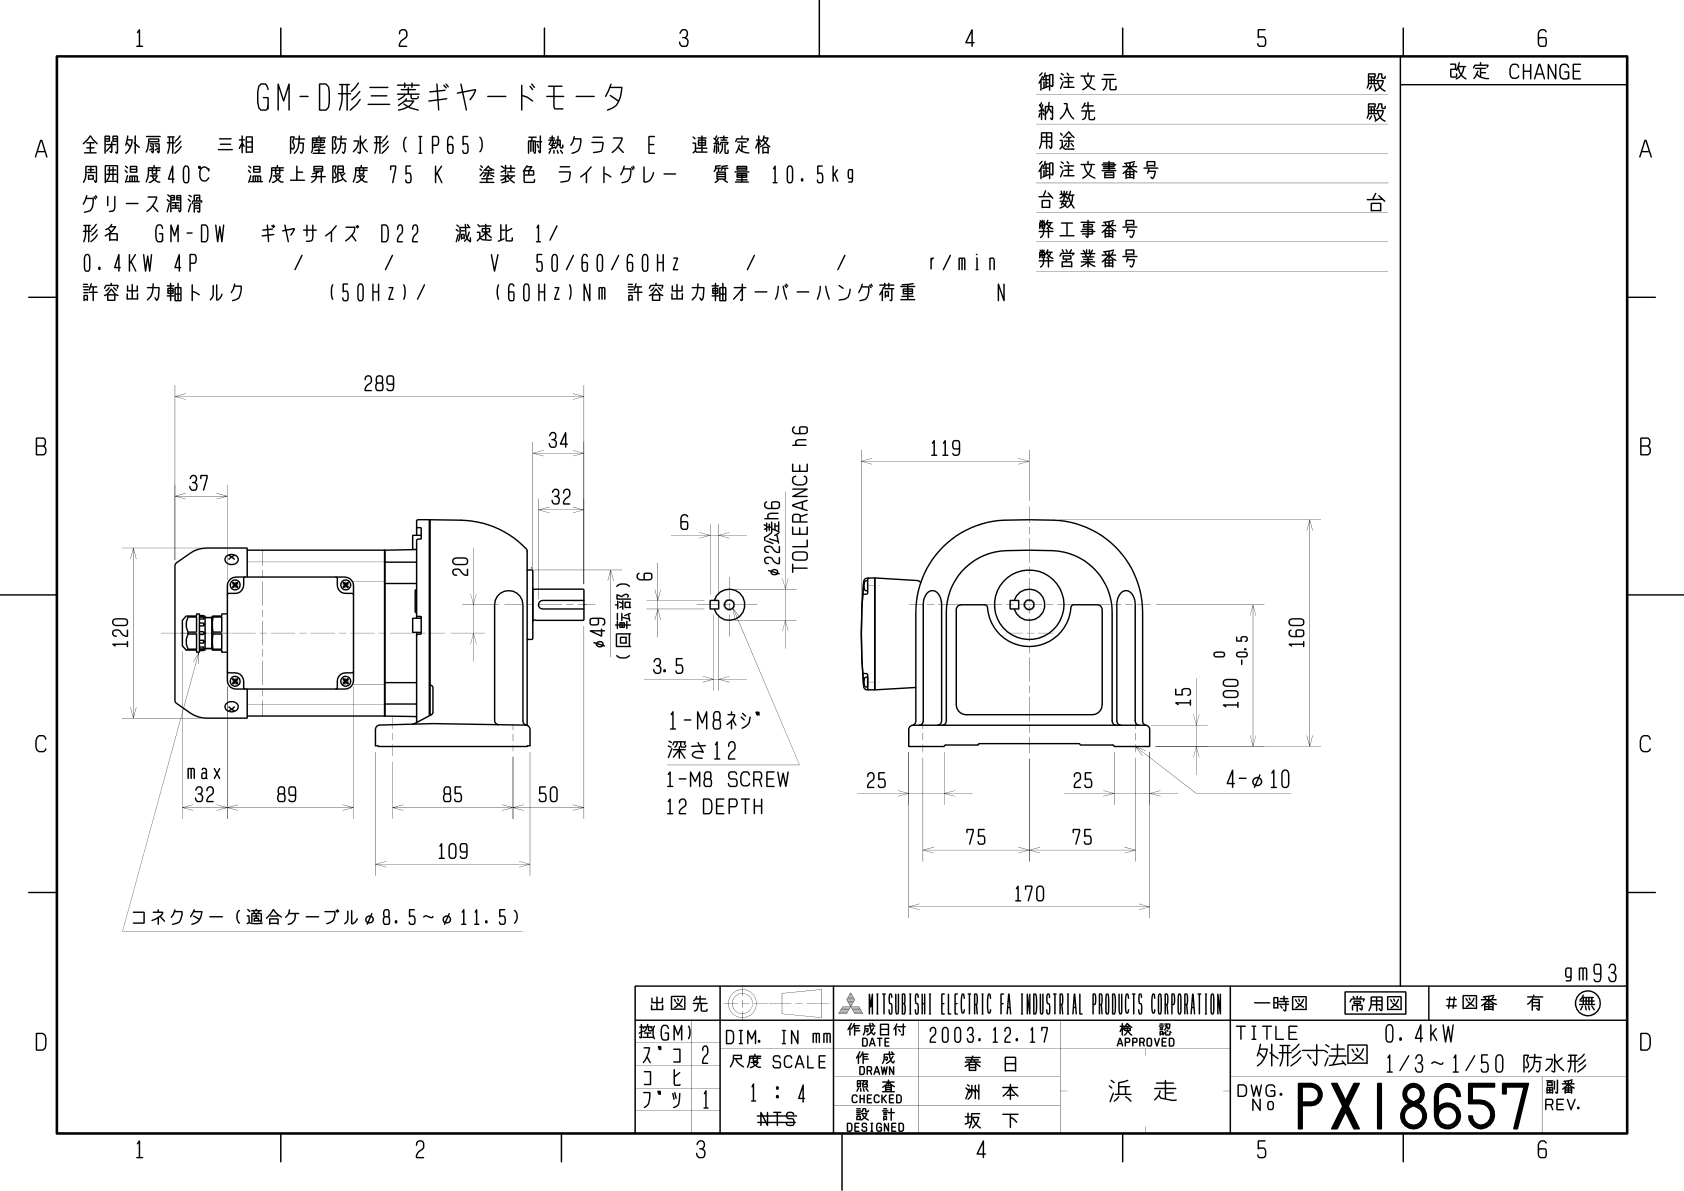GM_D_IP65_三相_脚: (70, 342, 1358, 956)
